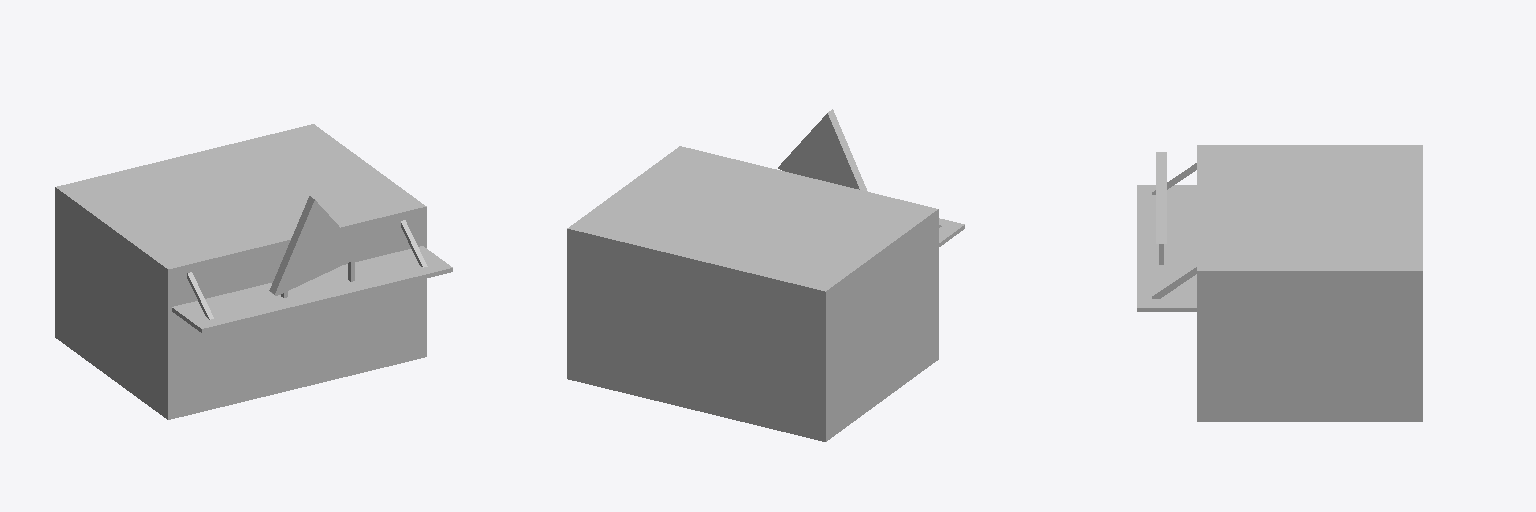
The model's file is peets_area.obj.
The picture shows the model from 3 angles: view 1: azimuth 30°, elevation 25°; view 2: azimuth 150°, elevation 25°; view 3: azimuth 270°, elevation 25°; orthographic projection.
Parts seen in each view (by area): view 1: Cube, Cube.004_Cube.005, Cube.005_Cube.007; view 2: Cube, Cube.005_Cube.007; view 3: Cube, Cube.004_Cube.005, Cube.005_Cube.007.
Part boxes in pixels (bbox=[...]): Cube: bbox=[55, 124, 426, 419]; Cube.004_Cube.005: bbox=[172, 246, 452, 332]; Cube.005_Cube.007: bbox=[269, 196, 364, 295]; Cube: bbox=[567, 146, 938, 441]; Cube.005_Cube.007: bbox=[778, 109, 867, 191]; Cube: bbox=[1197, 145, 1422, 421]; Cube.004_Cube.005: bbox=[1137, 185, 1196, 311]; Cube.005_Cube.007: bbox=[1156, 152, 1166, 243].
Size of the model in its own units: 8.84 by 6.7 by 8.47.